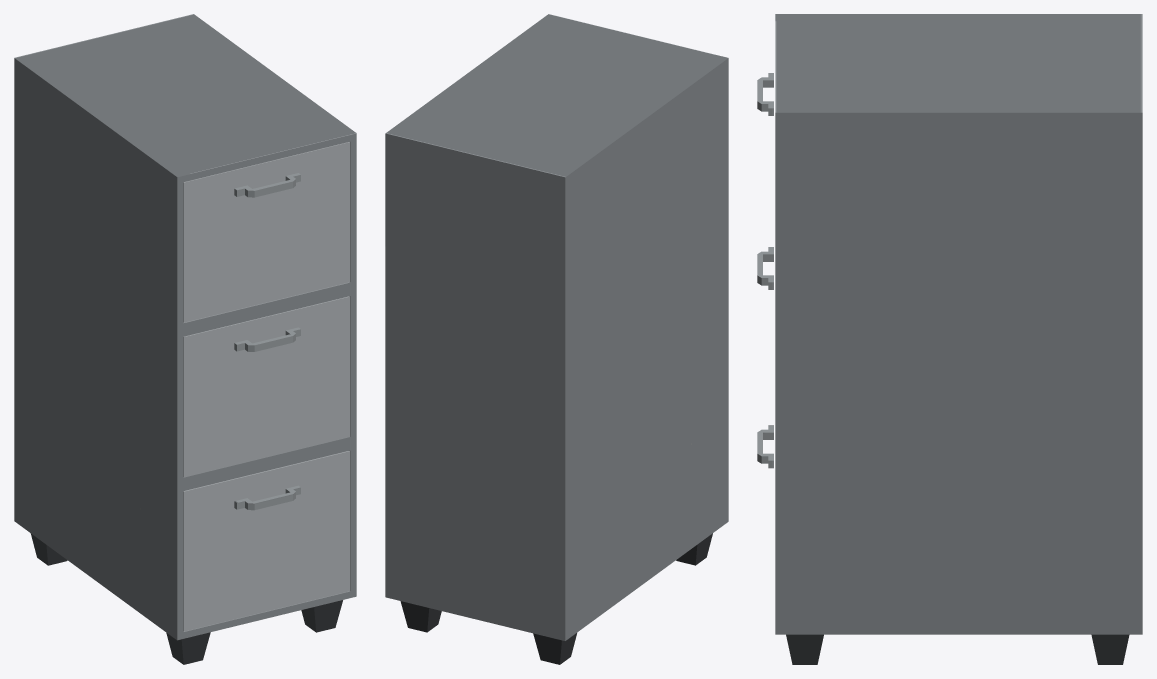
File: Small_Locker_Grey.fbx
The picture shows the model from 3 angles, left to right: view 1: azimuth 30°, elevation 25°; view 2: azimuth 150°, elevation 25°; view 3: azimuth 270°, elevation 25°; orthographic projection. The views are drawn at different scales.
Parts seen in each view (by area): view 1: Gabinet.003; view 2: Gabinet.003; view 3: Gabinet.003.
Part boxes in pixels (x1,y1,x2,y2): Gabinet.003: [14, 14, 356, 664]; Gabinet.003: [385, 14, 728, 664]; Gabinet.003: [757, 14, 1142, 664].
Bounding box in the file's own units: 28 × 74 × 46.17.
